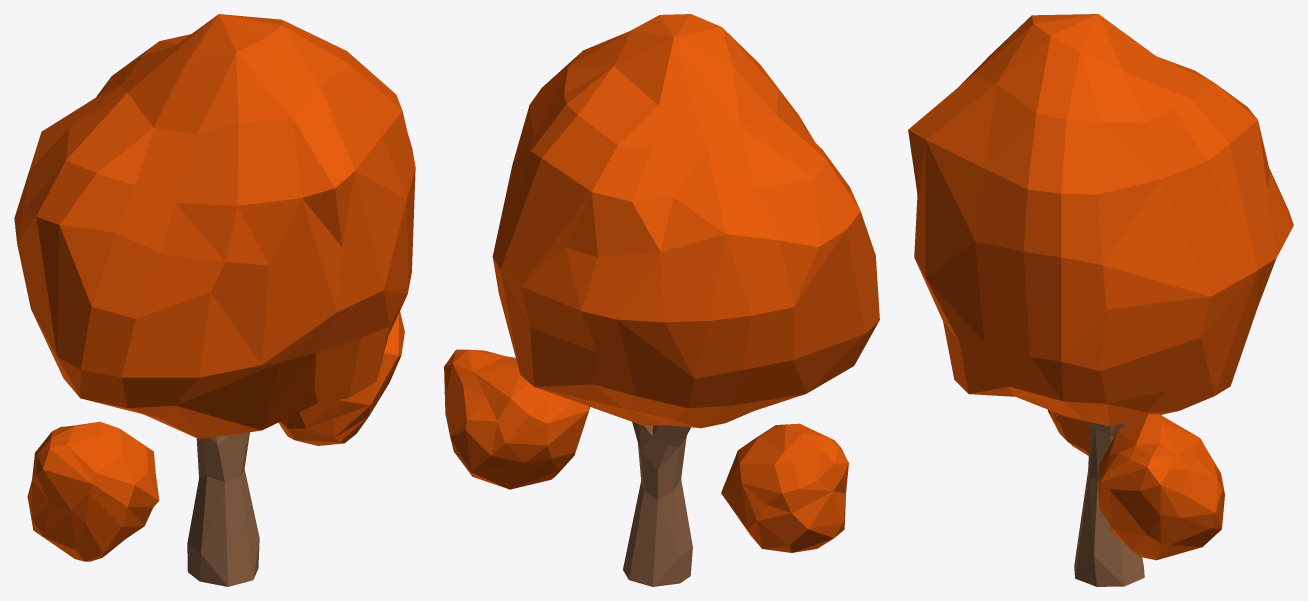
File: tree-autumn-complete-3-007.glb
3 views of the same model, side by side, from view 1: azimuth 30°, elevation 25°; view 2: azimuth 150°, elevation 25°; view 3: azimuth 270°, elevation 25° (orthographic). The views are drawn at different scales.
Visible parts, largest first — view 1: TREE 3.003_396, TREE 3.002_397; view 2: TREE 3.003_396, TREE 3.002_397; view 3: TREE 3.003_396, TREE 3.002_397.
Part boxes in pixels (x1,y1,x2,y2): TREE 3.003_396: (14, 14, 415, 561); TREE 3.002_397: (187, 432, 259, 586); TREE 3.003_396: (444, 14, 879, 552); TREE 3.002_397: (623, 422, 692, 586); TREE 3.003_396: (908, 14, 1293, 560); TREE 3.002_397: (1074, 422, 1144, 586).
Size of the model in its own units: 1.04 by 1.42 by 0.8969.
